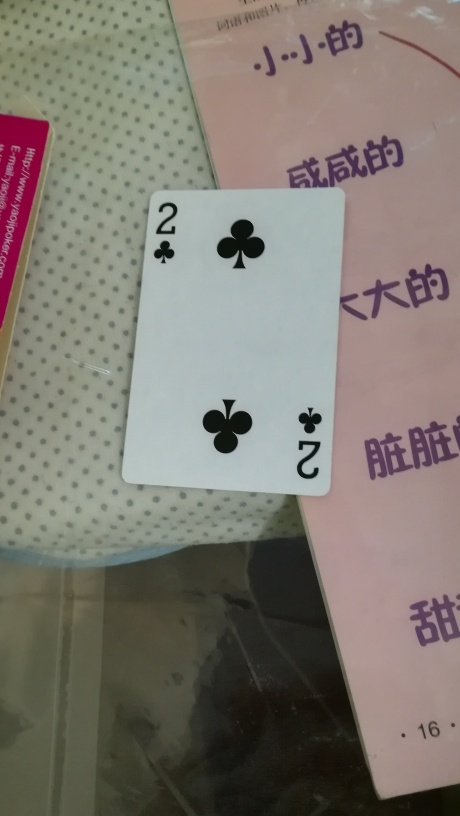mh 2: (121, 188, 342, 498)
